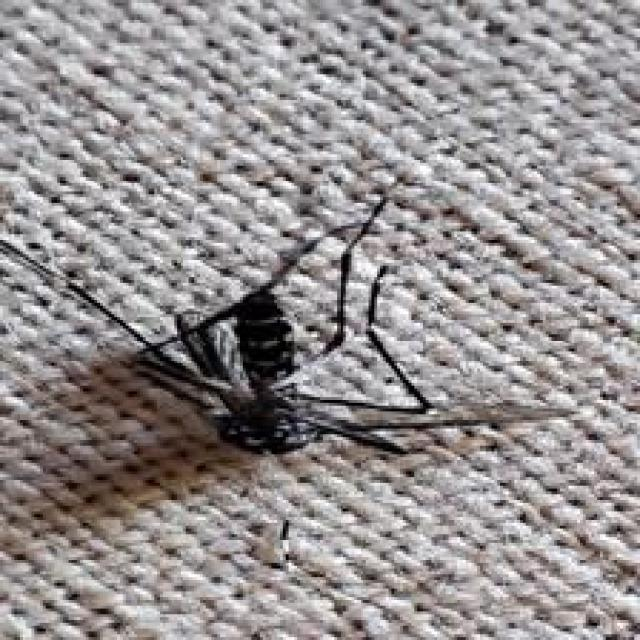Aedes albopictus: (0, 173, 577, 561)
